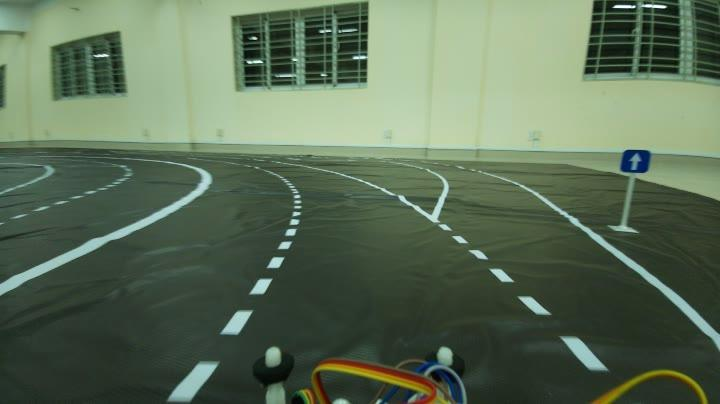onewayroad: (615, 142, 657, 178)
